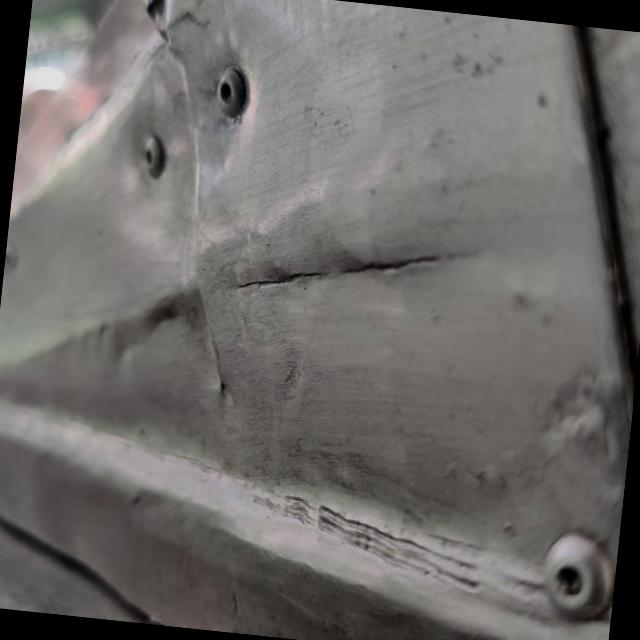scratch: (218, 190, 477, 360)
